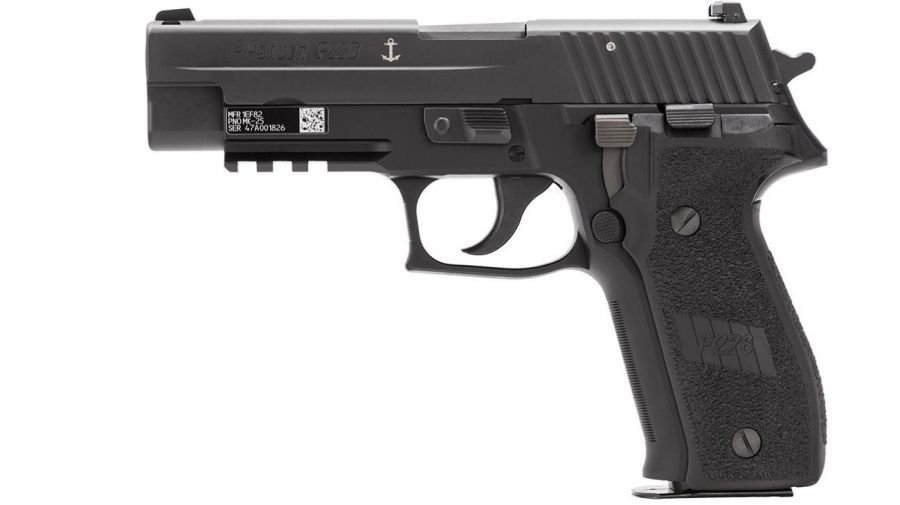Arma Real: (134, 2, 878, 505)
